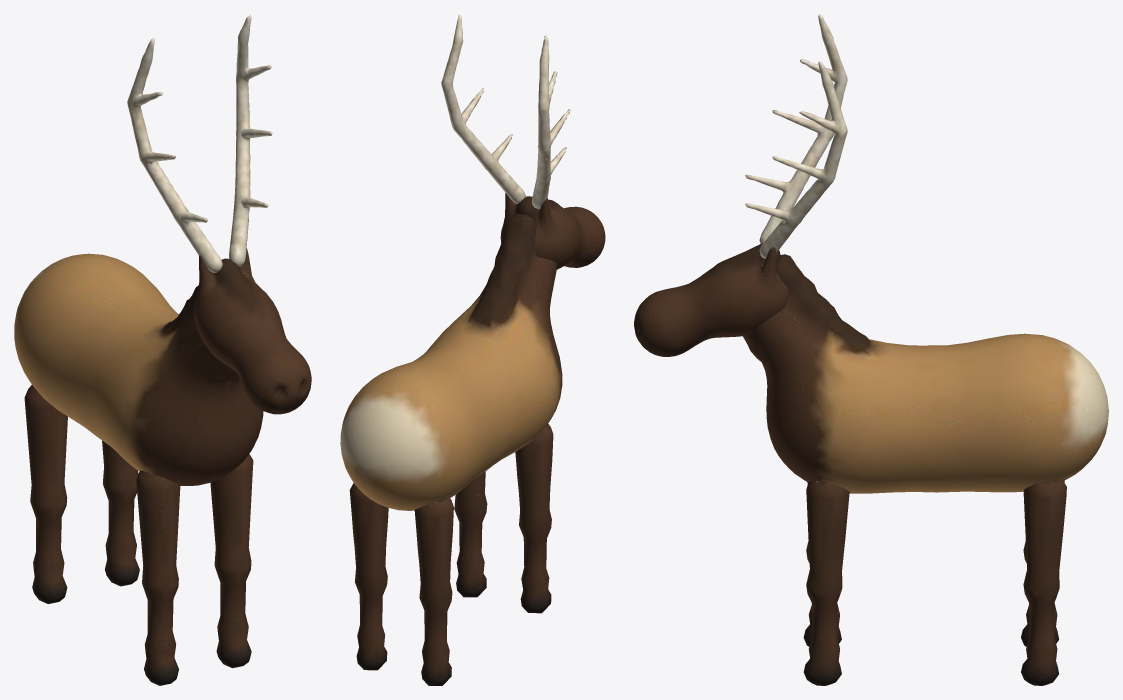
File: animal_elk.glb
3 renders of one model, left to right at view 1: azimuth 30°, elevation 25°; view 2: azimuth 150°, elevation 25°; view 3: azimuth 270°, elevation 25°, orthographic. The views are drawn at different scales.
Visible parts, largest first — view 1: animal_elk, head, leg0, leg2, leg1, leg3; view 2: animal_elk, head, leg2, leg0, leg3, leg1; view 3: animal_elk, head, leg3, leg1.
Part boxes in pixels (left/top/right/bottom): animal_elk: left=14, top=253, right=263, bottom=485; head: left=127, top=14, right=311, bottom=414; leg0: left=136, top=470, right=180, bottom=685; leg2: left=24, top=385, right=67, bottom=603; leg1: left=210, top=454, right=253, bottom=668; leg3: left=102, top=440, right=139, bottom=586; animal_elk: left=340, top=213, right=562, bottom=510; head: left=441, top=14, right=605, bottom=269; leg2: left=414, top=497, right=453, bottom=685; leg0: left=515, top=424, right=553, bottom=613; leg3: left=349, top=483, right=388, bottom=670; leg1: left=454, top=471, right=487, bottom=597; animal_elk: left=743, top=254, right=1108, bottom=493; head: left=634, top=14, right=847, bottom=356; leg3: left=1021, top=480, right=1066, bottom=685; leg1: left=803, top=481, right=849, bottom=685.
Bounding box in the file's own units: 0.2542 × 1.18 × 0.8045.
1 material, 1 textured.
